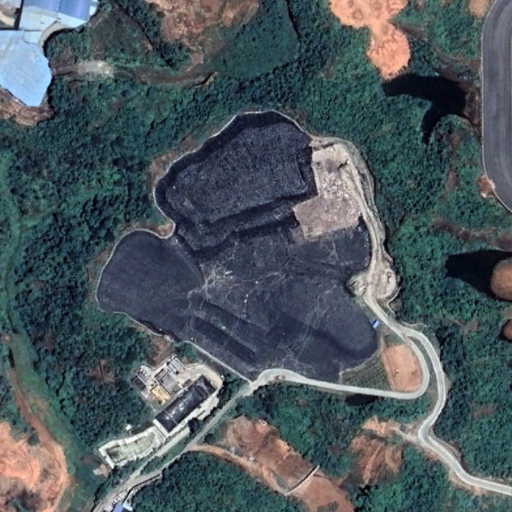lf: (96, 110, 380, 381)
